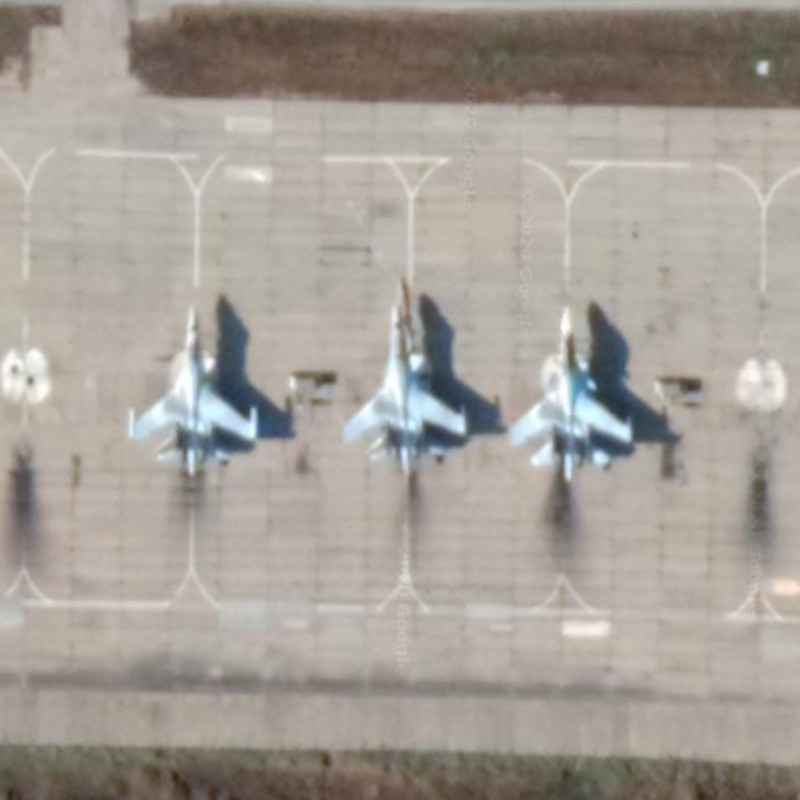A1: (332, 272, 481, 473), (123, 301, 277, 479)
A19: (508, 302, 642, 482)
